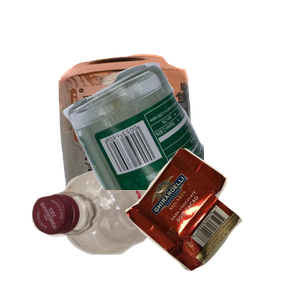glass: (60, 60, 300, 240)
metal: (56, 52, 242, 232)
plastic: (29, 166, 183, 300)
trash: (123, 145, 300, 300)
